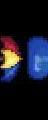slime: (25, 36, 48, 84), (0, 36, 23, 83)
